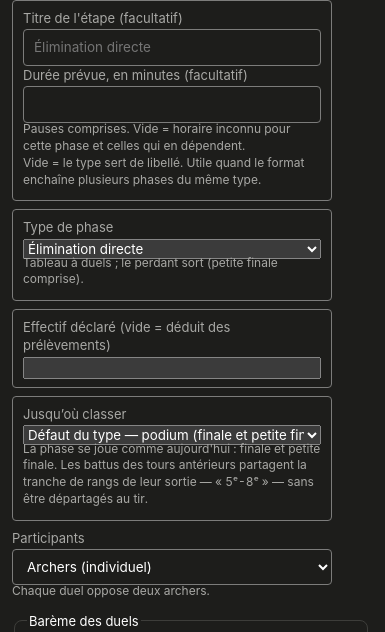
Test case: profondeur de classement › refuse de valider un top N dont le rang d’arrêt est vide
Select "S’arrêter à un rang précis…" in the dropdown labelled "Jusqu’où classer" at (172, 435), box [23,425,321,445]
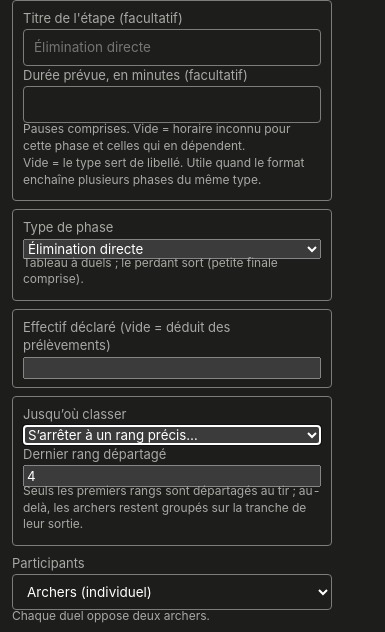
Clear the field labelled "Dernier rang départagé" at (172, 476), box [23,465,321,487]
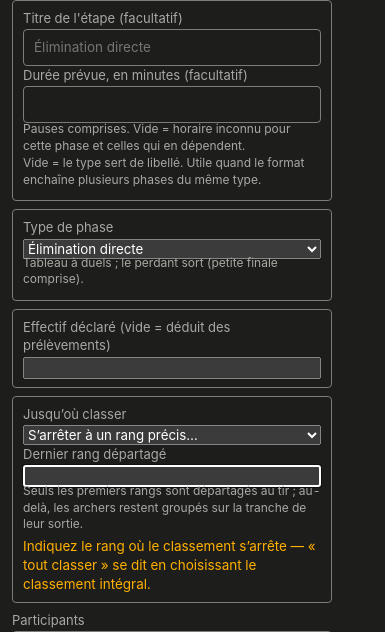
expect the message shows "rang où le classement": met, box [23,538,316,592]
